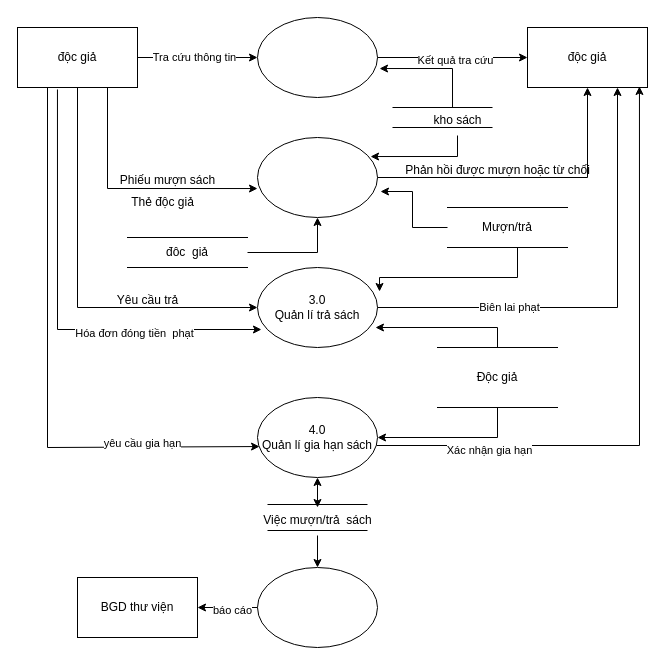
Image size: 665x665. Some labels were removed from this diagram. The centre of each missing label's shape, as x and y in pixels:
"1.0 Quản lí tra cứu" goes at point 317,57.
"2.0 Quản lí mượn sách" goes at point 317,177.
"5.0 Báo các thống kê" goes at point 317,607.
